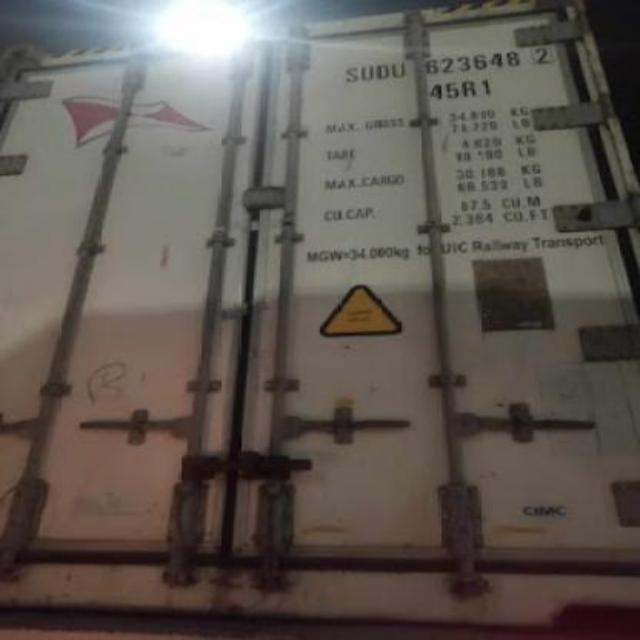2: (532, 43, 554, 69), (440, 53, 456, 77)
3: (454, 53, 470, 77)
4: (491, 49, 504, 70)
6: (422, 53, 440, 77), (474, 44, 486, 72)
8: (506, 45, 524, 71)
D: (376, 60, 392, 82)
S: (342, 61, 360, 84)
U: (390, 58, 408, 82), (358, 60, 374, 82)
